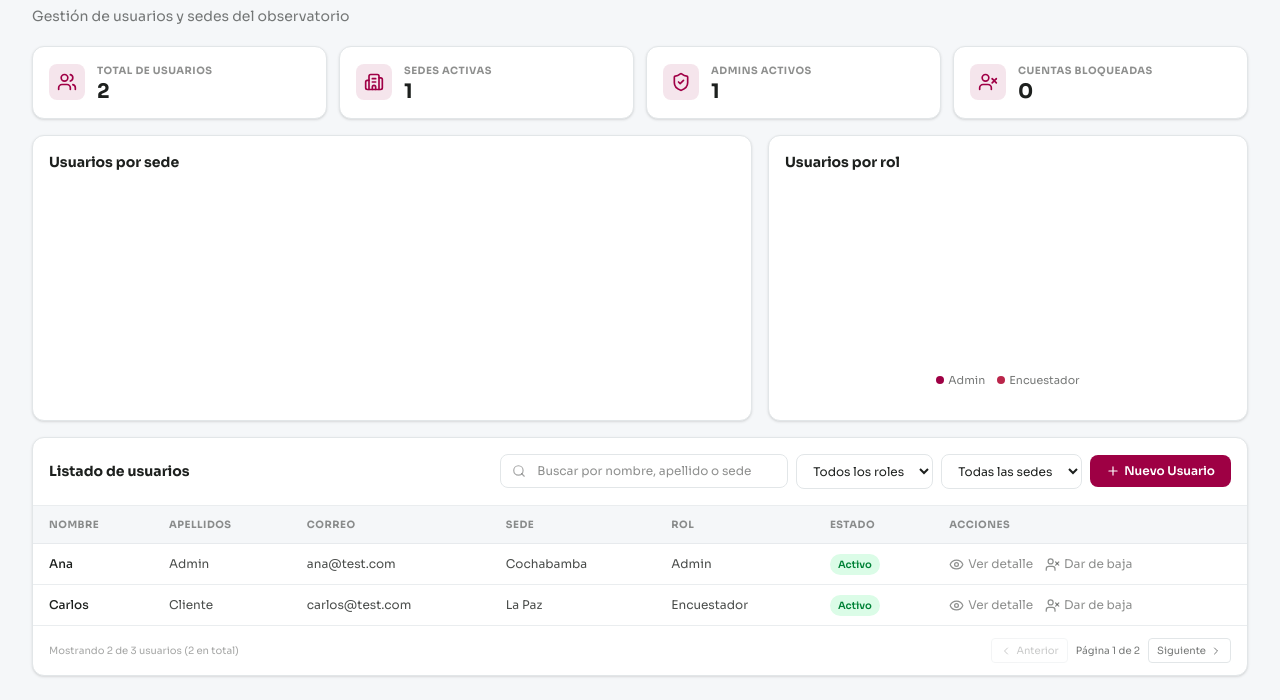
Test: UsuariosPage — paginación (US8) › cambiar un filtro vuelve a la página 1
Later steps or results of the test are not shown.
(page scrolled)
Check: the text "Ana" is shown, box [33,544,153,585]
Click the button with aria-label "Página siguiente": (1190, 651) [1148,638,1231,663]
(page scrolled)
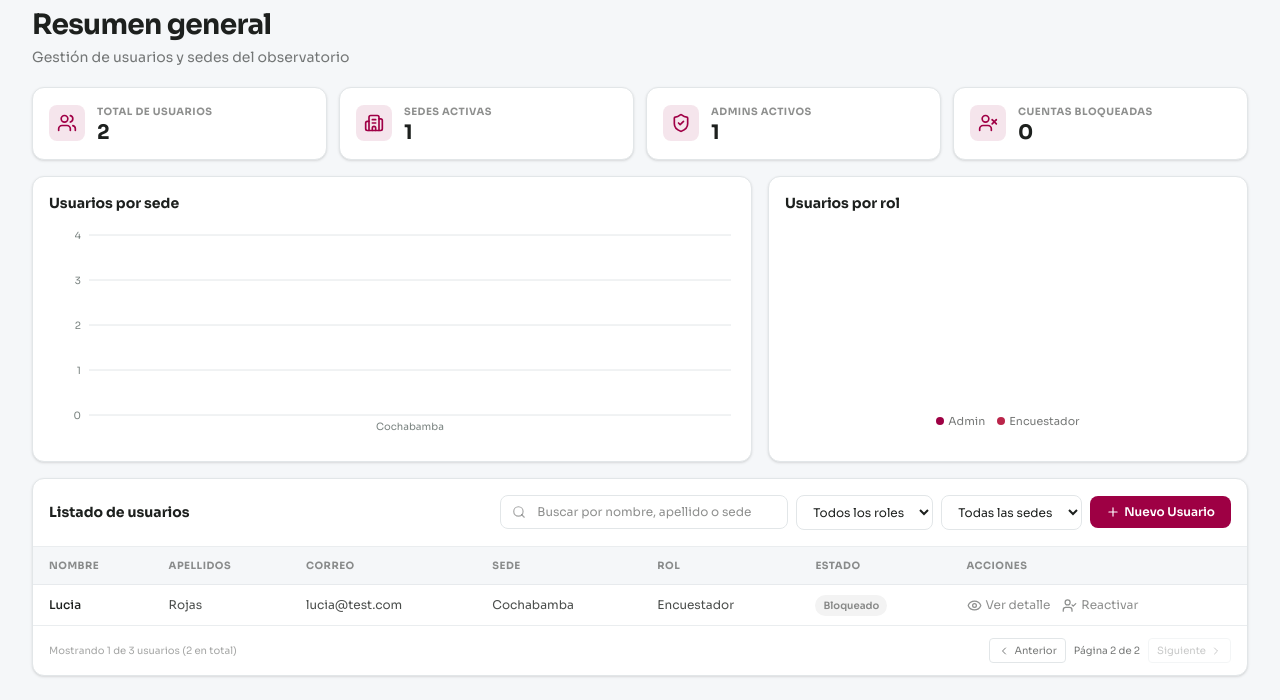
Check: the text "Lucia" is shown, box [33,585,153,625]
